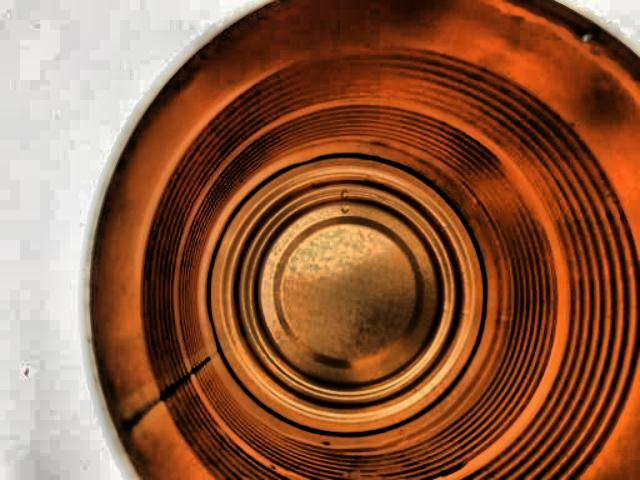Almennt: (46, 0, 640, 480)
